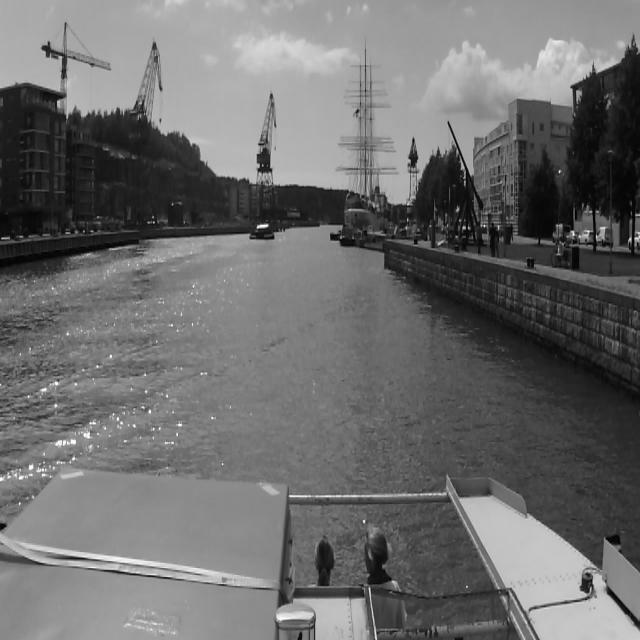ship: (344, 37, 382, 224), (249, 223, 275, 239)
